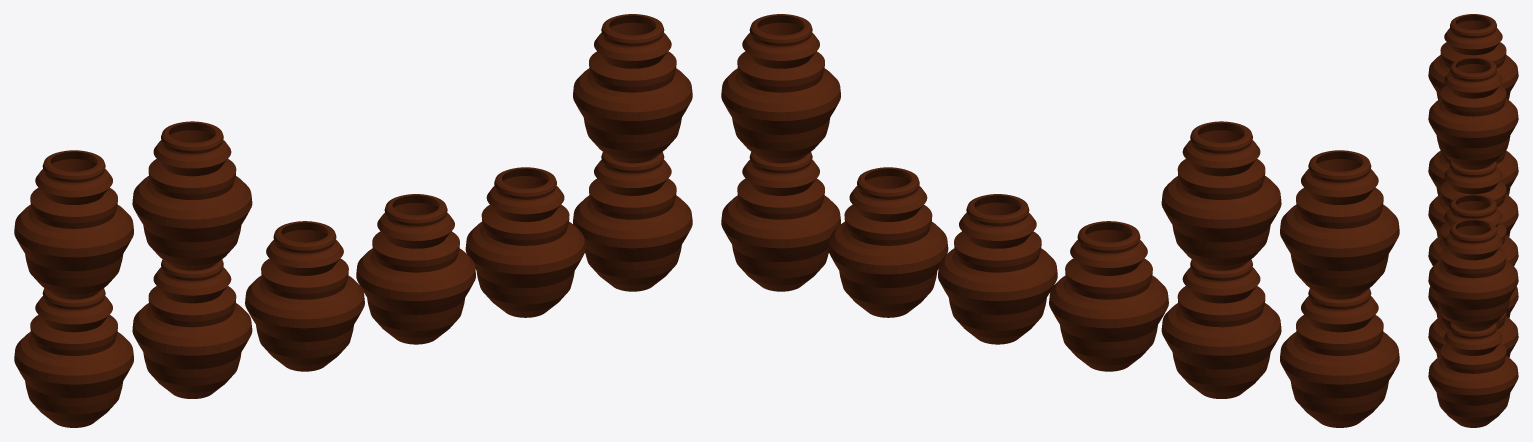
The model's file is P_Vasija3.obj.
The picture shows the model from 3 angles, left to right: view 1: azimuth 30°, elevation 25°; view 2: azimuth 150°, elevation 25°; view 3: azimuth 270°, elevation 25°; orthographic projection. The views are drawn at different scales.
Visible parts, largest first — view 1: P_Vasija3.003, P_Vasija3.002, P_Vasija3.004, P_Vasija3.007, P_Vasija3.008, P_Vasija3.006, P_Vasija3, P_Vasija3.001, P_Vasija3.005; view 2: P_Vasija3.003, P_Vasija3.002, P_Vasija3.004, P_Vasija3.007, P_Vasija3.008, P_Vasija3.006, P_Vasija3, P_Vasija3.001, P_Vasija3.005; view 3: P_Vasija3.007, P_Vasija3.006, P_Vasija3.005, P_Vasija3.008, P_Vasija3.001, P_Vasija3.002, P_Vasija3, P_Vasija3.004, P_Vasija3.003.
Part boxes in pixels (x1,y1,x2,y2): P_Vasija3.003: (356,194,475,344); P_Vasija3.002: (245,221,364,371); P_Vasija3.004: (465,167,585,317); P_Vasija3.007: (132,121,252,270); P_Vasija3.008: (14,150,133,299); P_Vasija3.006: (573,14,692,163); P_Vasija3: (14,288,133,427); P_Vasija3.001: (132,259,252,398); P_Vasija3.005: (573,152,692,291); P_Vasija3.003: (938,194,1057,344); P_Vasija3.002: (1049,221,1168,371); P_Vasija3.004: (828,167,948,317); P_Vasija3.007: (1161,121,1281,270); P_Vasija3.008: (1280,150,1399,299); P_Vasija3.006: (721,14,840,163); P_Vasija3: (1280,288,1399,427); P_Vasija3.001: (1161,259,1281,398); P_Vasija3.005: (721,152,840,291); P_Vasija3.007: (1428,57,1518,169); P_Vasija3.006: (1428,219,1518,331); P_Vasija3.005: (1428,323,1518,427); P_Vasija3.008: (1428,14,1518,99); P_Vasija3.001: (1428,161,1518,236); P_Vasija3.002: (1428,194,1518,265); P_Vasija3: (1428,150,1518,195); P_Vasija3.004: (1428,312,1518,357); P_Vasija3.003: (1428,286,1518,318).
Size of the model in its own units: 5.28 by 1.96 by 0.8286.
